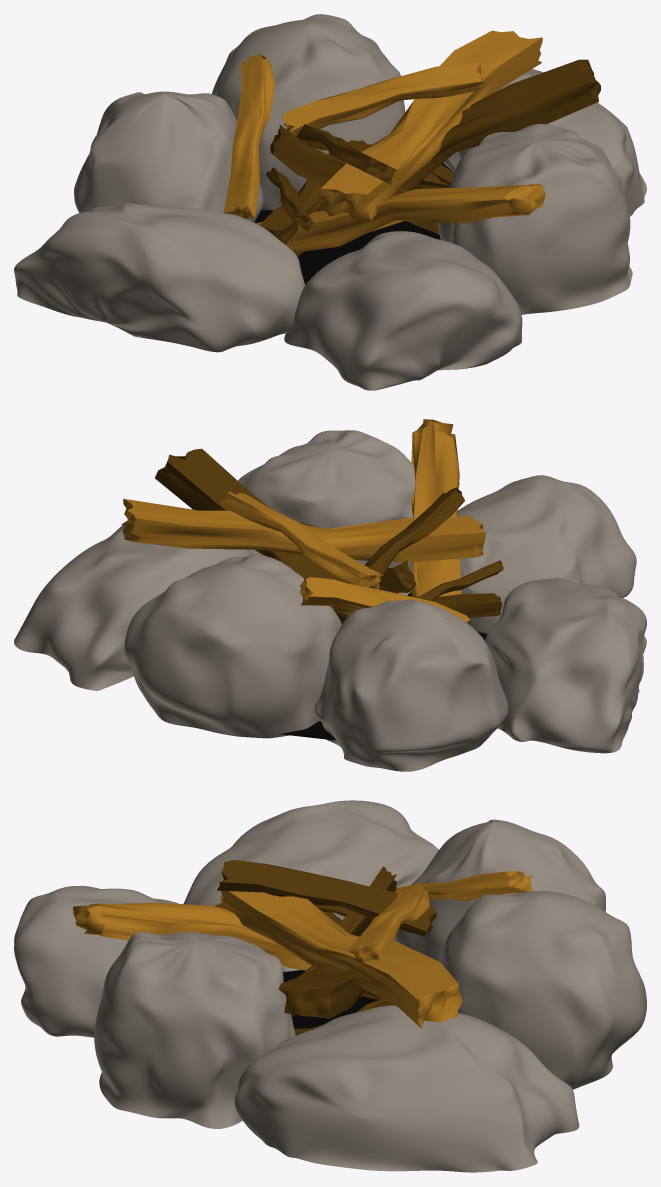
The model's file is Campfire.fbx.
3 views of the same model, one above another, from view 1: azimuth 30°, elevation 25°; view 2: azimuth 150°, elevation 25°; view 3: azimuth 270°, elevation 25° (orthographic). The views are drawn at different scales.
Visible parts, largest first — view 1: Campfire; view 2: Campfire; view 3: Campfire.
Boxes of the visible parts, x1=… form: Campfire: x1=14, y1=14, x2=646, y2=390; Campfire: x1=14, y1=419, x2=646, y2=771; Campfire: x1=14, y1=800, x2=646, y2=1172.
Bounding box in the file's own units: 143 × 35.38 × 126.
